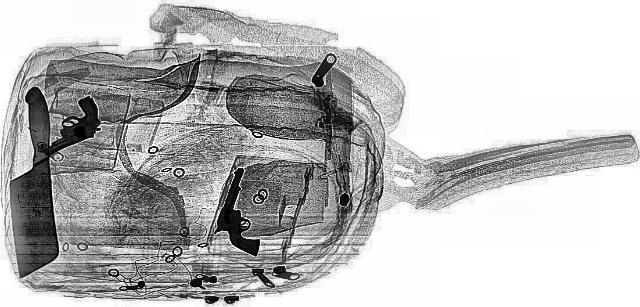Gun: (200, 167, 290, 255), (5, 96, 137, 154)
Knife: (1, 87, 61, 277)
